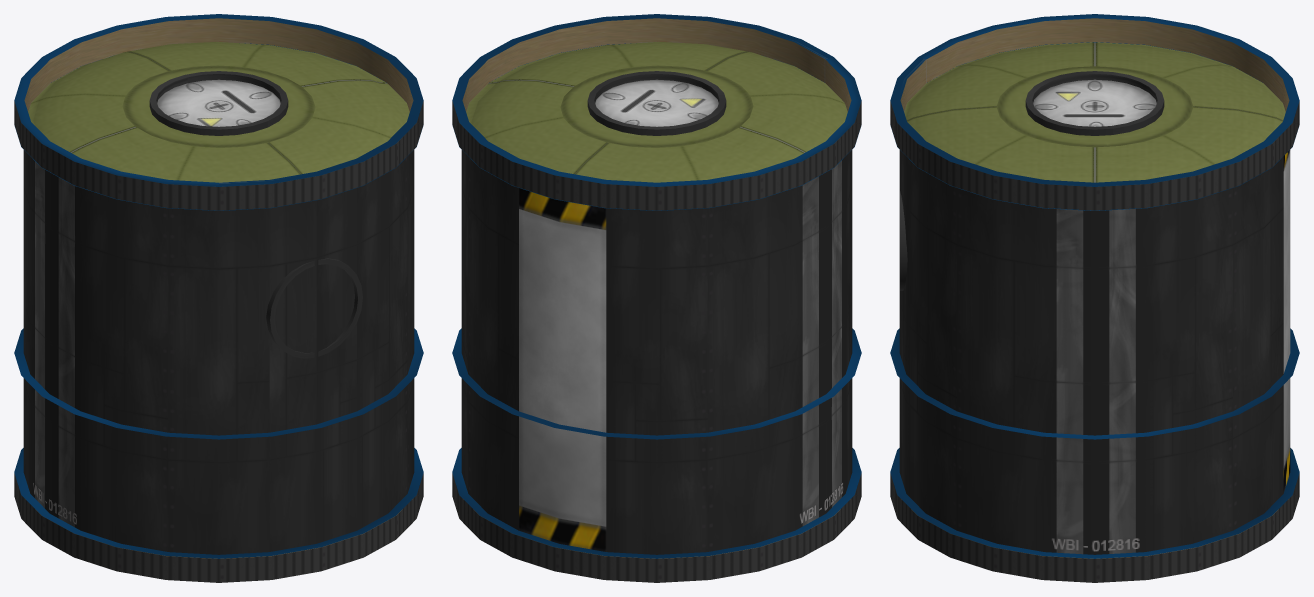
File: MoleSpace.FBX
3 views of the same model, side by side, from view 1: azimuth 30°, elevation 25°; view 2: azimuth 150°, elevation 25°; view 3: azimuth 270°, elevation 25° (orthographic).
Parts seen in each view (by area): view 1: Cylinder003, EndCap001, TankSleeve001, EndCap010, TankSleeve002, CrewPort006, EndCap007, EndCap002, Tube001, EndCap008; view 2: Cylinder003, EndCap001, TankSleeve001, EndCap010, TankSleeve002, CrewPort006, EndCap007, EndCap002, EndCap008; view 3: Cylinder003, EndCap001, TankSleeve001, EndCap010, TankSleeve002, CrewPort006, EndCap002, EndCap007, EndCap008, Tube001.
Part boxes in pixels (<box>): Cylinder003: <box>23,150,414,554</box>; EndCap001: <box>14,42,423,210</box>; TankSleeve001: <box>14,14,423,210</box>; EndCap010: <box>29,42,409,210</box>; TankSleeve002: <box>14,473,423,582</box>; CrewPort006: <box>149,71,288,135</box>; EndCap007: <box>14,328,423,439</box>; EndCap002: <box>14,448,423,558</box>; Tube001: <box>266,258,362,358</box>; EndCap008: <box>15,451,422,558</box>; Cylinder003: <box>461,150,852,554</box>; EndCap001: <box>452,42,861,210</box>; TankSleeve001: <box>452,14,861,210</box>; EndCap010: <box>465,42,854,210</box>; TankSleeve002: <box>452,473,861,582</box>; CrewPort006: <box>587,71,726,135</box>; EndCap007: <box>452,328,861,439</box>; EndCap002: <box>452,448,861,558</box>; EndCap008: <box>453,450,860,558</box>; Cylinder003: <box>899,150,1290,554</box>; EndCap001: <box>890,42,1298,210</box>; TankSleeve001: <box>890,14,1299,210</box>; EndCap010: <box>905,42,1284,210</box>; TankSleeve002: <box>890,473,1299,582</box>; CrewPort006: <box>1025,71,1164,135</box>; EndCap002: <box>890,448,1299,558</box>; EndCap007: <box>890,328,1299,439</box>; EndCap008: <box>891,448,1298,558</box>; Tube001: <box>900,191,907,290</box>.
Size of the model in its own units: 1.87 by 2 by 1.87.
2 materials, 2 textured.
